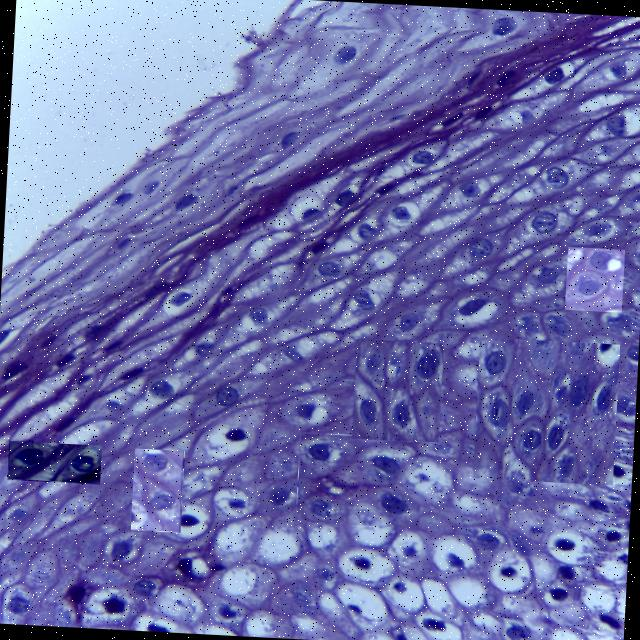Nuclear Hyperchromatism: (477, 338, 617, 482), (299, 434, 420, 526), (353, 341, 443, 439), (9, 442, 101, 483), (136, 448, 181, 531), (566, 247, 625, 310), (148, 375, 242, 403)
